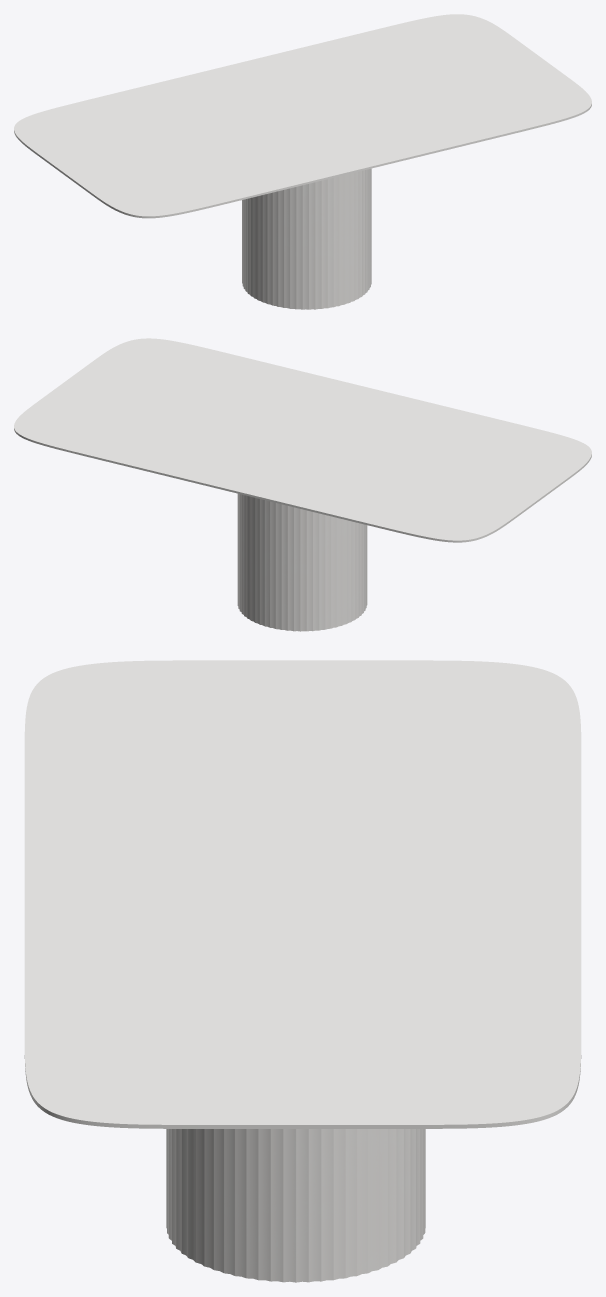
The model's file is purewhite_softrecta_facet_ripple.glb.
The picture shows the model from 3 angles, top to bottom: view 1: azimuth 30°, elevation 25°; view 2: azimuth 150°, elevation 25°; view 3: azimuth 270°, elevation 25°; orthographic projection. The views are drawn at different scales.
Parts seen in each view (by area): view 1: facet_softrecta, ripple; view 2: facet_softrecta, ripple; view 3: facet_softrecta, ripple.
Boxes of the visible parts, left/top/right/bottom form: facet_softrecta: left=14, top=14, right=591, bottom=218; ripple: left=242, top=168, right=371, bottom=309; facet_softrecta: left=14, top=338, right=591, bottom=542; ripple: left=237, top=493, right=367, bottom=631; facet_softrecta: left=24, top=660, right=581, bottom=1128; ripple: left=166, top=1129, right=425, bottom=1282.
Size of the model in its own units: 7.5 by 2.5 by 3.8.
1 material, 1 textured.
